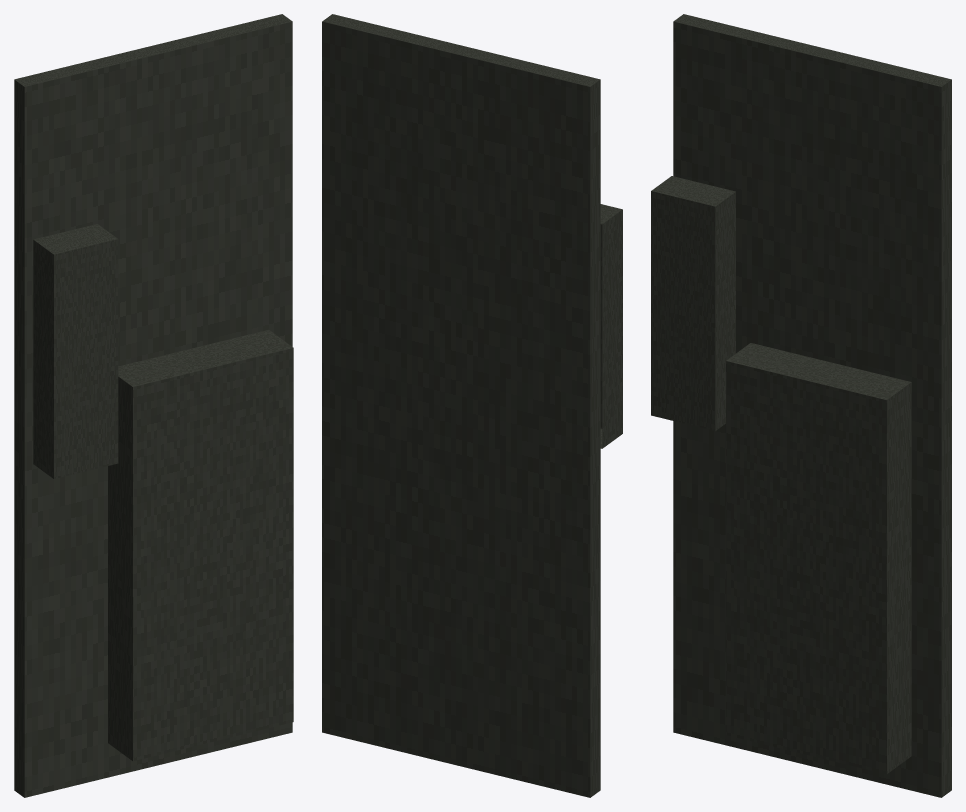
Rendered from charm_p38.glb.
The picture shows the model from 3 angles, left to right: view 1: azimuth 30°, elevation 25°; view 2: azimuth 150°, elevation 25°; view 3: azimuth 330°, elevation 25°; orthographic projection.
Visible parts, largest first — view 1: charm_p38; view 2: charm_p38; view 3: charm_p38.
Boxes of the visible parts, x1,y1,x2,y2 form: charm_p38: (14, 14, 293, 797); charm_p38: (322, 14, 622, 797); charm_p38: (651, 14, 951, 797).
Size of the model in its own units: 0.015 by 0.038 by 0.0037.
Materials: 1 (1 with a texture image).
